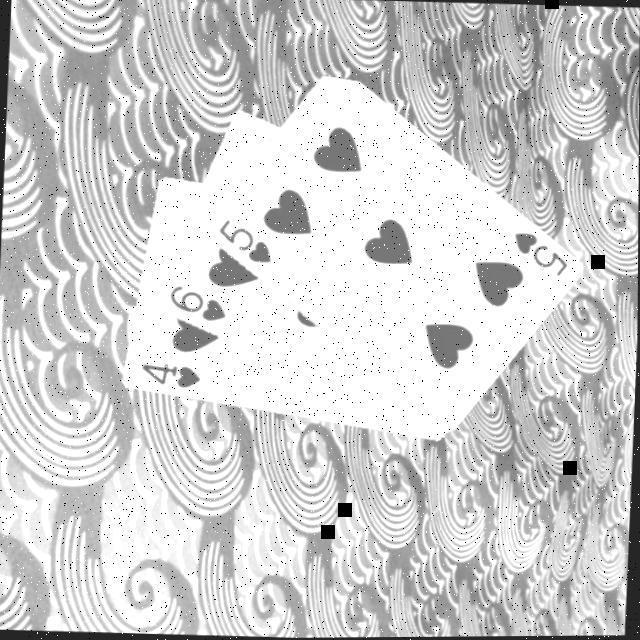4H: (138, 358, 205, 390)
5H: (510, 227, 574, 279), (214, 213, 277, 265)
6H: (168, 279, 231, 323)
